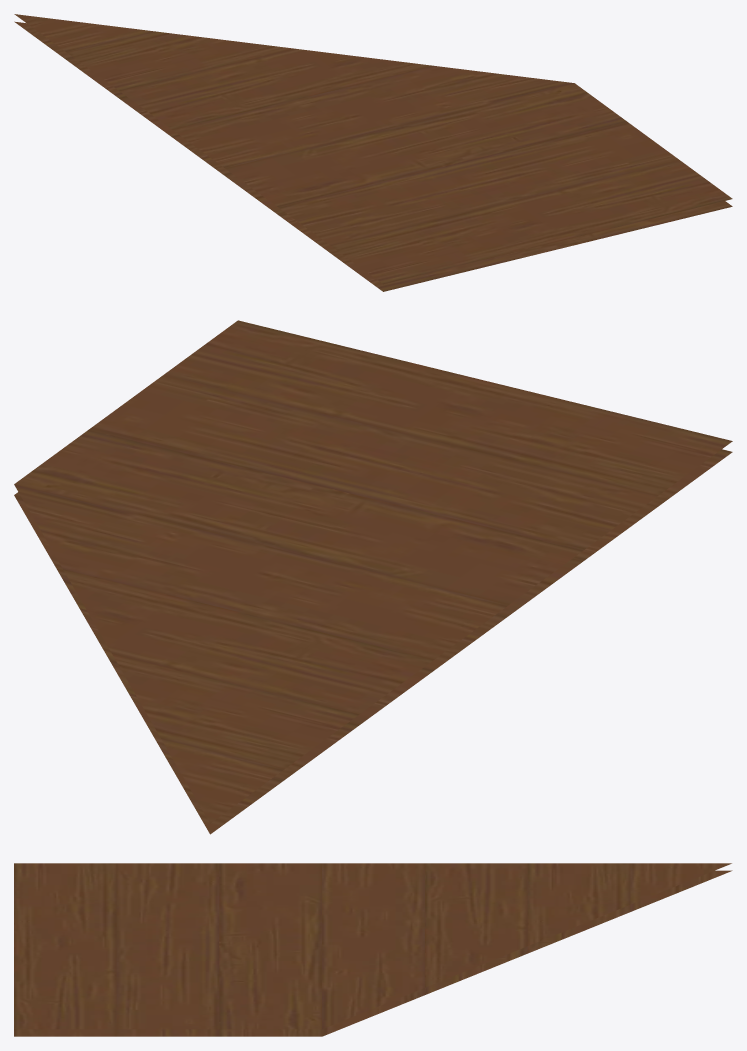
File: Floor_WoodDark_OverhangCorner2.glb
3 renders of one model, top to bottom at view 1: azimuth 30°, elevation 25°; view 2: azimuth 150°, elevation 25°; view 3: azimuth 270°, elevation 25°, orthographic. The views are drawn at different scales.
Parts seen in each view (by area): view 1: Floor_WoodDark_OverhangCorner2; view 2: Floor_WoodDark_OverhangCorner2; view 3: Floor_WoodDark_OverhangCorner2.
Part boxes in pixels (left/top/right/bottom): Floor_WoodDark_OverhangCorner2: left=14, top=14, right=732, bottom=291; Floor_WoodDark_OverhangCorner2: left=14, top=320, right=732, bottom=834; Floor_WoodDark_OverhangCorner2: left=14, top=863, right=732, bottom=1036.
Bounding box in the file's own units: 0.9567 × 0.02 × 1.75.
1 material, 1 textured.
